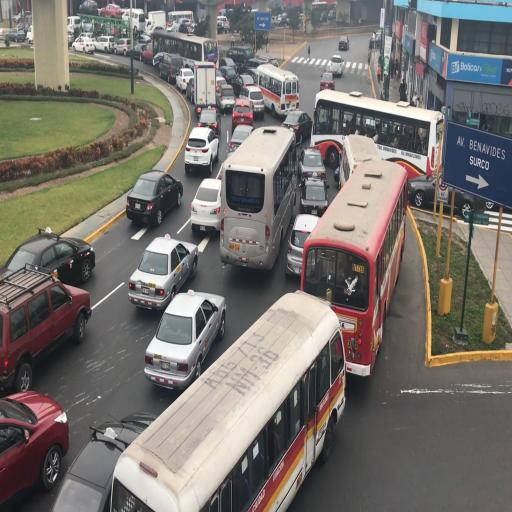auto: (1, 264, 92, 394), (47, 412, 160, 510), (143, 288, 226, 388), (1, 390, 69, 510), (2, 226, 95, 288), (128, 234, 198, 309), (408, 172, 487, 218), (126, 168, 183, 226), (286, 212, 320, 277), (189, 178, 222, 234), (184, 123, 220, 174), (298, 146, 326, 188), (299, 176, 328, 216), (282, 110, 312, 144), (238, 82, 264, 120), (155, 51, 184, 83), (196, 106, 222, 139), (228, 123, 254, 155), (214, 77, 235, 111), (232, 98, 254, 130), (244, 58, 270, 78), (217, 60, 237, 85), (203, 38, 221, 65), (130, 40, 152, 62), (176, 67, 194, 93), (72, 36, 95, 54), (112, 37, 133, 56), (94, 35, 116, 53), (98, 3, 124, 18), (235, 73, 255, 92), (78, 16, 98, 35), (328, 54, 344, 76), (6, 26, 26, 43), (254, 54, 278, 67), (320, 71, 335, 91), (78, 0, 98, 15), (152, 51, 166, 69), (109, 24, 127, 38), (79, 28, 95, 42), (178, 21, 195, 34), (16, 21, 31, 35), (121, 10, 132, 27), (338, 36, 350, 51), (169, 20, 182, 32), (275, 14, 285, 26), (327, 9, 336, 21), (223, 20, 231, 33), (68, 30, 74, 47), (271, 16, 279, 27), (67, 23, 74, 35)
bus: (146, 10, 168, 34)
moto: (110, 293, 330, 505), (308, 144, 408, 370), (314, 89, 438, 185), (254, 63, 299, 119), (226, 44, 254, 72), (123, 8, 148, 34)
